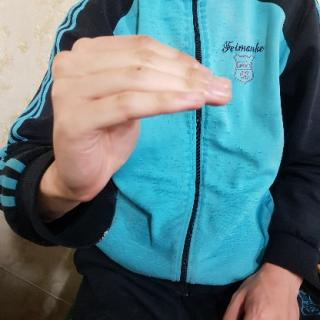HAA: (47, 34, 235, 206)
